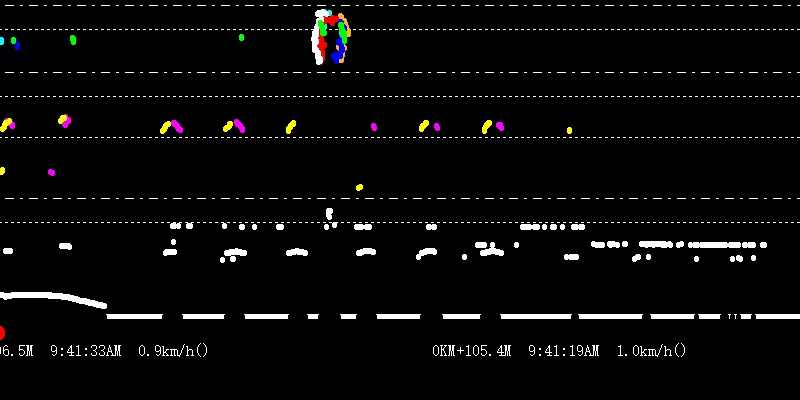J: (307, 2, 351, 65)
face_1: (68, 23, 80, 46)
